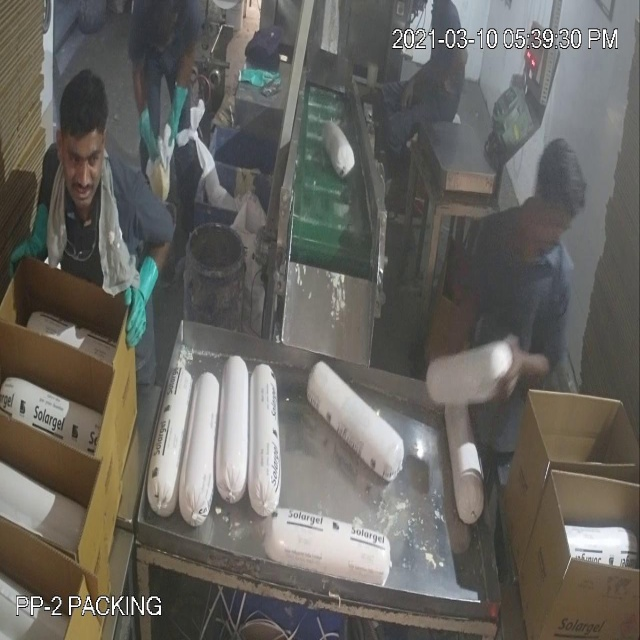Guantes: (422, 259, 483, 379), (1, 191, 69, 287), (118, 233, 162, 359), (164, 74, 189, 158), (136, 96, 162, 176)
Sin_guantes: (494, 331, 561, 404)
